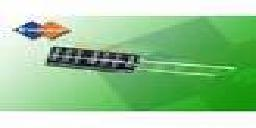Electrolytic-Capacitor: (42, 43, 238, 84)
